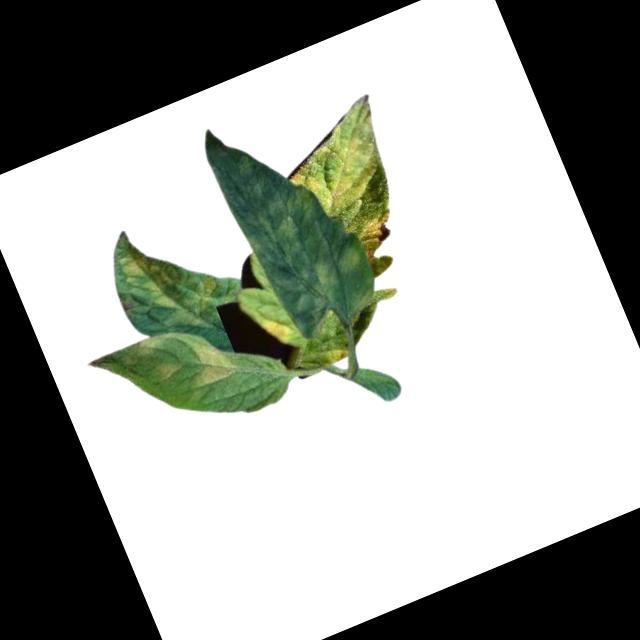Leaf_Mold: (208, 110, 377, 345), (268, 87, 413, 235), (116, 221, 230, 342), (351, 205, 406, 265), (185, 334, 239, 389), (255, 307, 298, 351), (150, 352, 187, 382), (321, 338, 352, 365)
